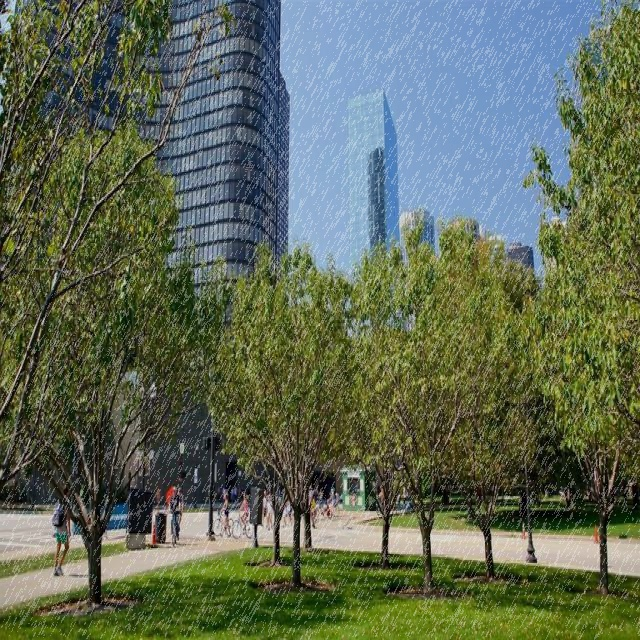pessoa: (49, 482, 72, 580), (168, 483, 182, 541), (218, 490, 232, 540), (215, 480, 244, 502), (395, 480, 413, 514), (279, 486, 293, 528), (237, 490, 250, 535), (264, 492, 274, 532), (176, 483, 184, 526), (260, 488, 268, 530), (326, 486, 336, 518), (376, 483, 385, 514), (310, 493, 317, 529), (316, 486, 324, 516), (155, 486, 161, 516), (306, 483, 314, 501)
